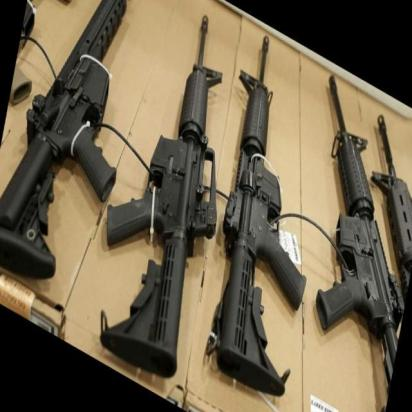Gun: (86, 0, 251, 398), (186, 18, 335, 405), (16, 0, 148, 317)
